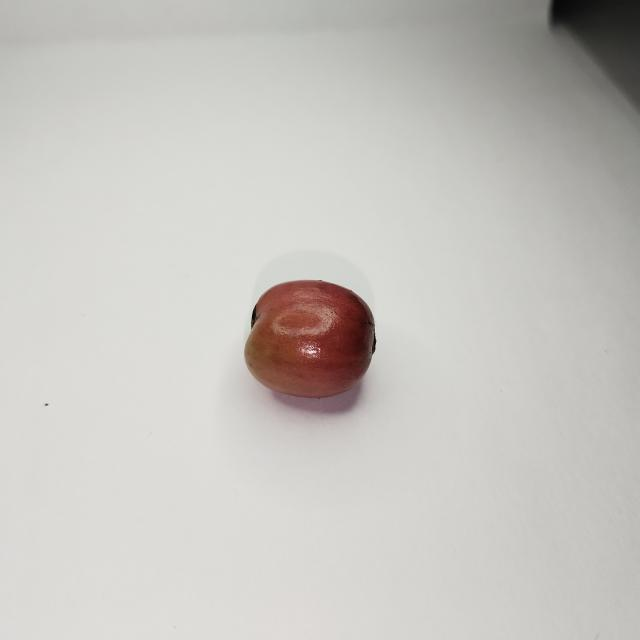Sano: (244, 279, 376, 400)
